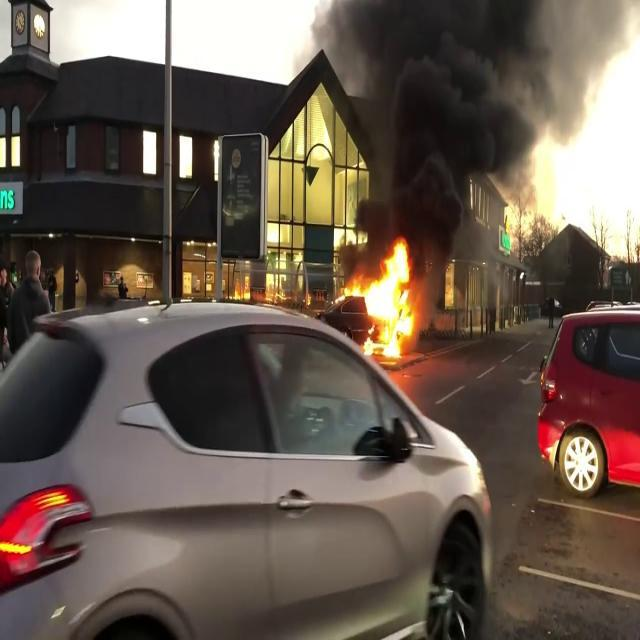Fire: (334, 239, 416, 359)
Smoke: (309, 0, 640, 280)
